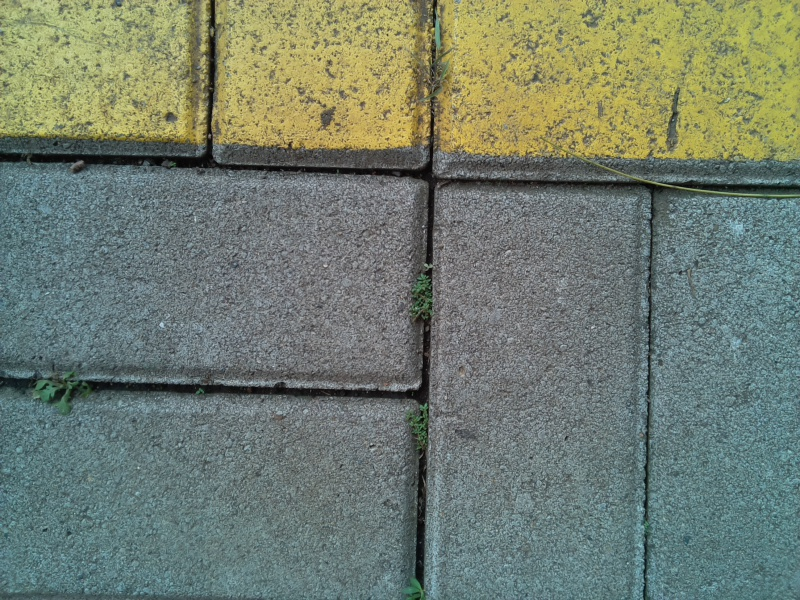Weed: (29, 361, 102, 415), (419, 21, 456, 117), (404, 400, 441, 462), (405, 261, 439, 324), (393, 570, 439, 600), (150, 150, 187, 178), (188, 380, 209, 403)
